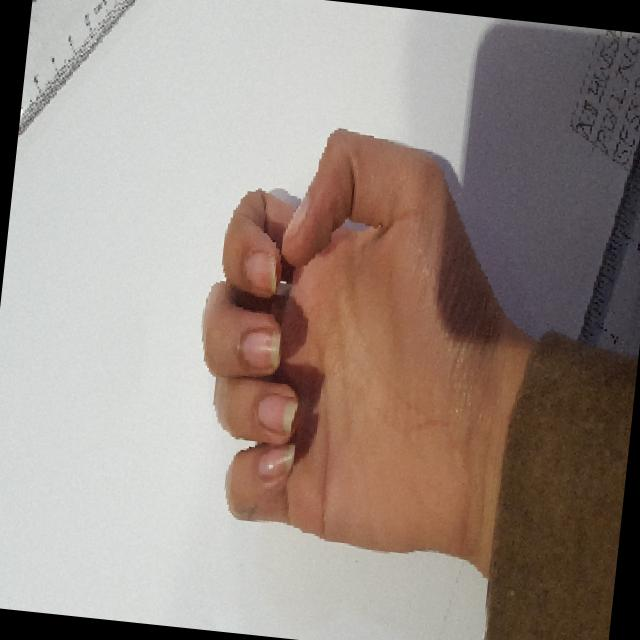Nail: (239, 328, 281, 369), (257, 393, 297, 434), (244, 250, 277, 293), (282, 194, 308, 241), (258, 443, 295, 475)
